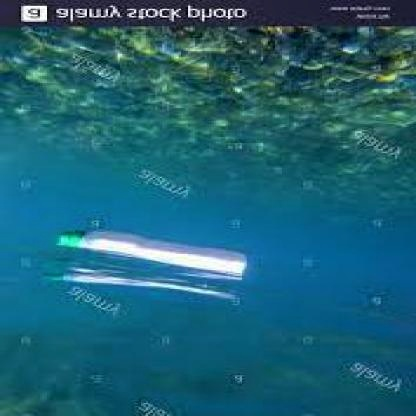pbottle: (44, 222, 258, 279)
